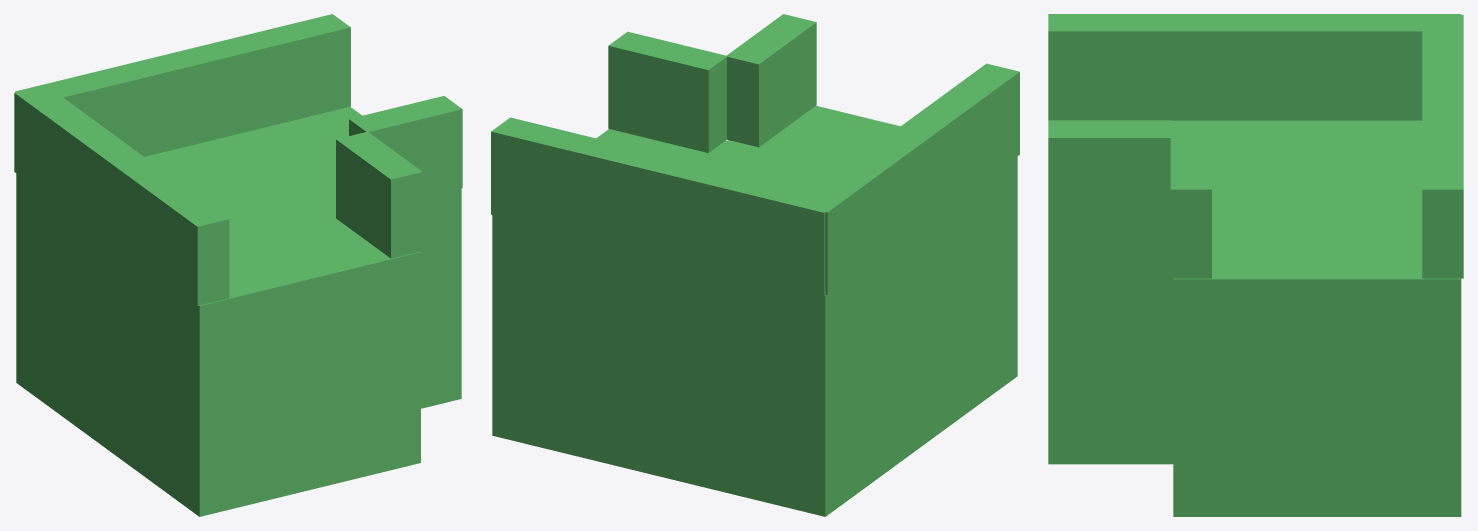
File: fortress_wallwalk_corner_inner_collision.glb
3 renders of one model, left to right at view 1: azimuth 30°, elevation 25°; view 2: azimuth 150°, elevation 25°; view 3: azimuth 270°, elevation 25°, orthographic. The views are drawn at different scales.
Visible parts, largest first — view 1: fortress_wallwalk_corner_inner-col-south, fortress_wallwalk_corner_inner-col-east, fortress_wallwalk_corner_inner-col-outer-y, fortress_wallwalk_corner_inner-col-outer-x, fortress_wallwalk_corner_inner-col-inner-x, fortress_wallwalk_corner_inner-col-inner-y; view 2: fortress_wallwalk_corner_inner-col-east, fortress_wallwalk_corner_inner-col-south, fortress_wallwalk_corner_inner-col-outer-y, fortress_wallwalk_corner_inner-col-outer-x, fortress_wallwalk_corner_inner-col-inner-y, fortress_wallwalk_corner_inner-col-inner-x; view 3: fortress_wallwalk_corner_inner-col-east, fortress_wallwalk_corner_inner-col-outer-x, fortress_wallwalk_corner_inner-col-south, fortress_wallwalk_corner_inner-col-inner-x, fortress_wallwalk_corner_inner-col-outer-y, fortress_wallwalk_corner_inner-col-inner-y.
Part boxes in pixels (left/top/right/bottom): fortress_wallwalk_corner_inner-col-south: left=16, top=130, right=420, bottom=516; fortress_wallwalk_corner_inner-col-east: left=16, top=107, right=461, bottom=475; fortress_wallwalk_corner_inner-col-outer-y: left=15, top=14, right=350, bottom=156; fortress_wallwalk_corner_inner-col-outer-x: left=14, top=87, right=229, bottom=305; fortress_wallwalk_corner_inner-col-inner-x: left=336, top=131, right=422, bottom=258; fortress_wallwalk_corner_inner-col-inner-y: left=349, top=96, right=462, bottom=197; fortress_wallwalk_corner_inner-col-east: left=492, top=129, right=959, bottom=516; fortress_wallwalk_corner_inner-col-south: left=593, top=105, right=1017, bottom=516; fortress_wallwalk_corner_inner-col-outer-y: left=491, top=117, right=842, bottom=295; fortress_wallwalk_corner_inner-col-outer-x: left=795, top=63, right=1019, bottom=295; fortress_wallwalk_corner_inner-col-inner-y: left=608, top=31, right=727, bottom=152; fortress_wallwalk_corner_inner-col-inner-x: left=726, top=14, right=816, bottom=147; fortress_wallwalk_corner_inner-col-east: left=1173, top=120, right=1461, bottom=516; fortress_wallwalk_corner_inner-col-outer-x: left=1048, top=14, right=1461, bottom=120; fortress_wallwalk_corner_inner-col-south: left=1048, top=120, right=1422, bottom=464; fortress_wallwalk_corner_inner-col-inner-x: left=1048, top=120, right=1172, bottom=226; fortress_wallwalk_corner_inner-col-outer-y: left=1422, top=15, right=1463, bottom=278; fortress_wallwalk_corner_inner-col-inner-y: left=1170, top=137, right=1211, bottom=278.
Bounding box in the file's own units: 4.82 × 4.19 × 4.82.
